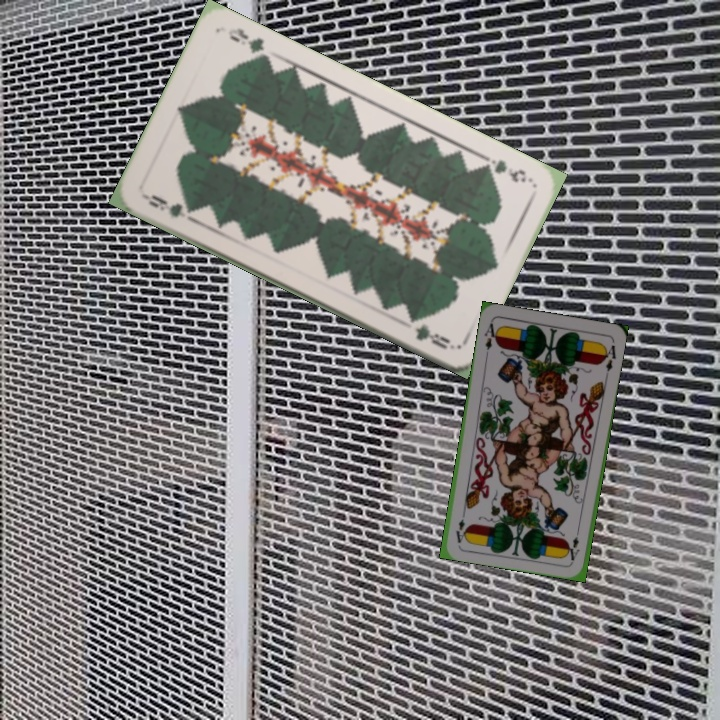EA: (480, 318, 501, 358), (566, 524, 582, 563)
G9: (477, 151, 536, 185), (139, 190, 197, 224)
